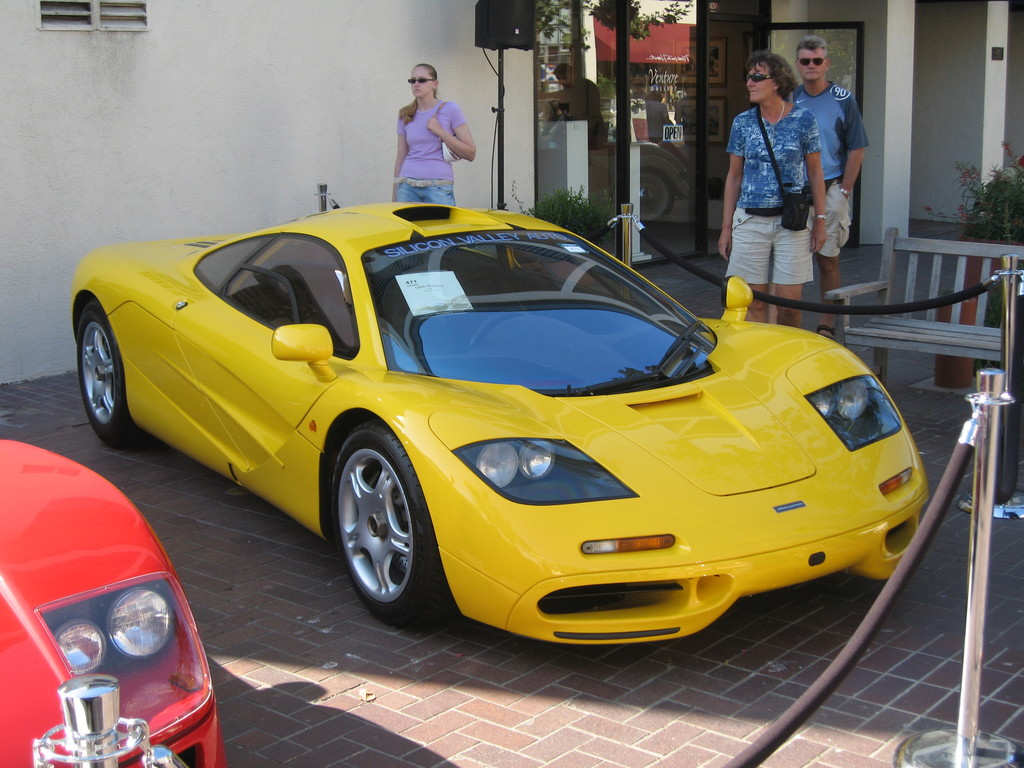Car: (67, 192, 920, 645), (0, 438, 225, 767)
